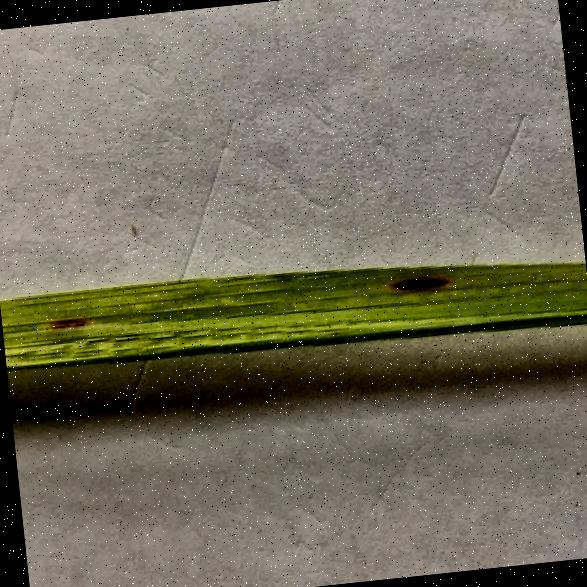Leaf_smut: (358, 260, 510, 318), (29, 300, 118, 349)
